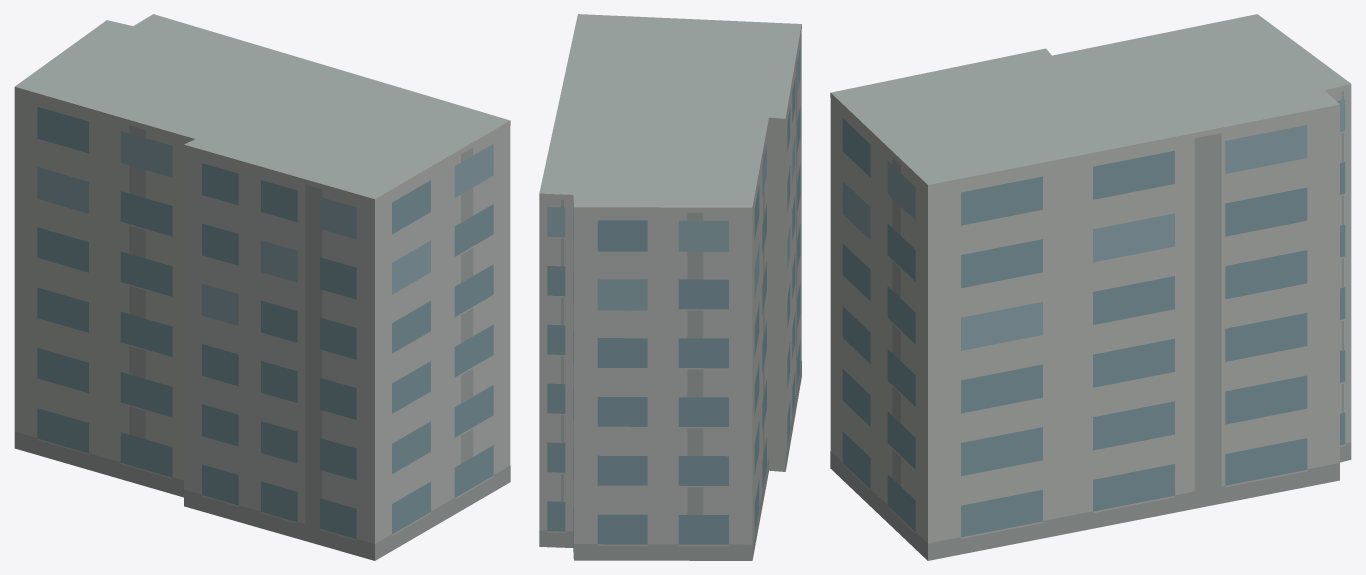
Rendered from survey-upis-32808736.glb.
3 renders of one model, left to right at view 1: azimuth 30°, elevation 25°; view 2: azimuth 150°, elevation 25°; view 3: azimuth 270°, elevation 25°, orthographic. The views are drawn at different scales.
Visible parts, largest first — view 1: survey-upis-32808736.tmp; view 2: survey-upis-32808736.tmp; view 3: survey-upis-32808736.tmp.
Part boxes in pixels (x1=…): survey-upis-32808736.tmp: x1=14, y1=14, x2=510, y2=560; survey-upis-32808736.tmp: x1=539, y1=14, x2=801, y2=560; survey-upis-32808736.tmp: x1=830, y1=14, x2=1351, y2=560.
Size of the model in its own units: 16.4 by 16.8 by 21.11.
